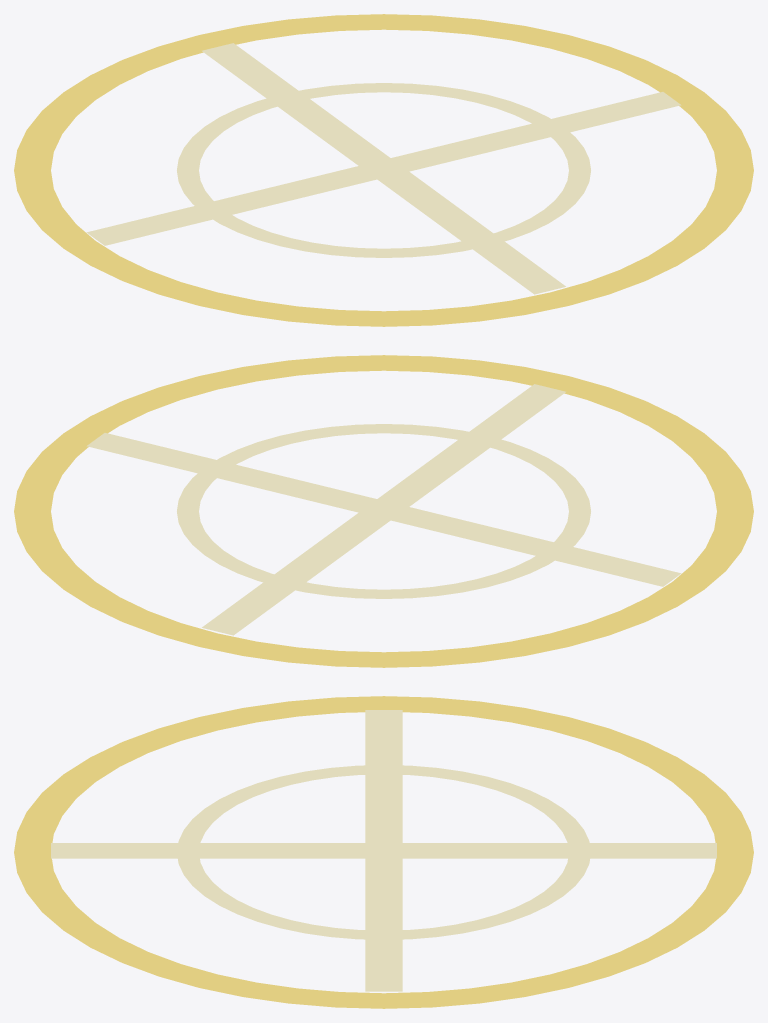
File: holy_circle.glb
3 renders of one model, top to bottom at view 1: azimuth 30°, elevation 25°; view 2: azimuth 150°, elevation 25°; view 3: azimuth 270°, elevation 25°, orthographic.
Parts seen in each view (by area): view 1: holy_circle; view 2: holy_circle; view 3: holy_circle.
Boxes of the visible parts, x1,y1,x2,y2 form: holy_circle: [14, 14, 753, 326]; holy_circle: [14, 355, 753, 667]; holy_circle: [14, 696, 753, 1008].
Size of the model in its own units: 2 by 0.005 by 2.
1 material, 1 textured.
